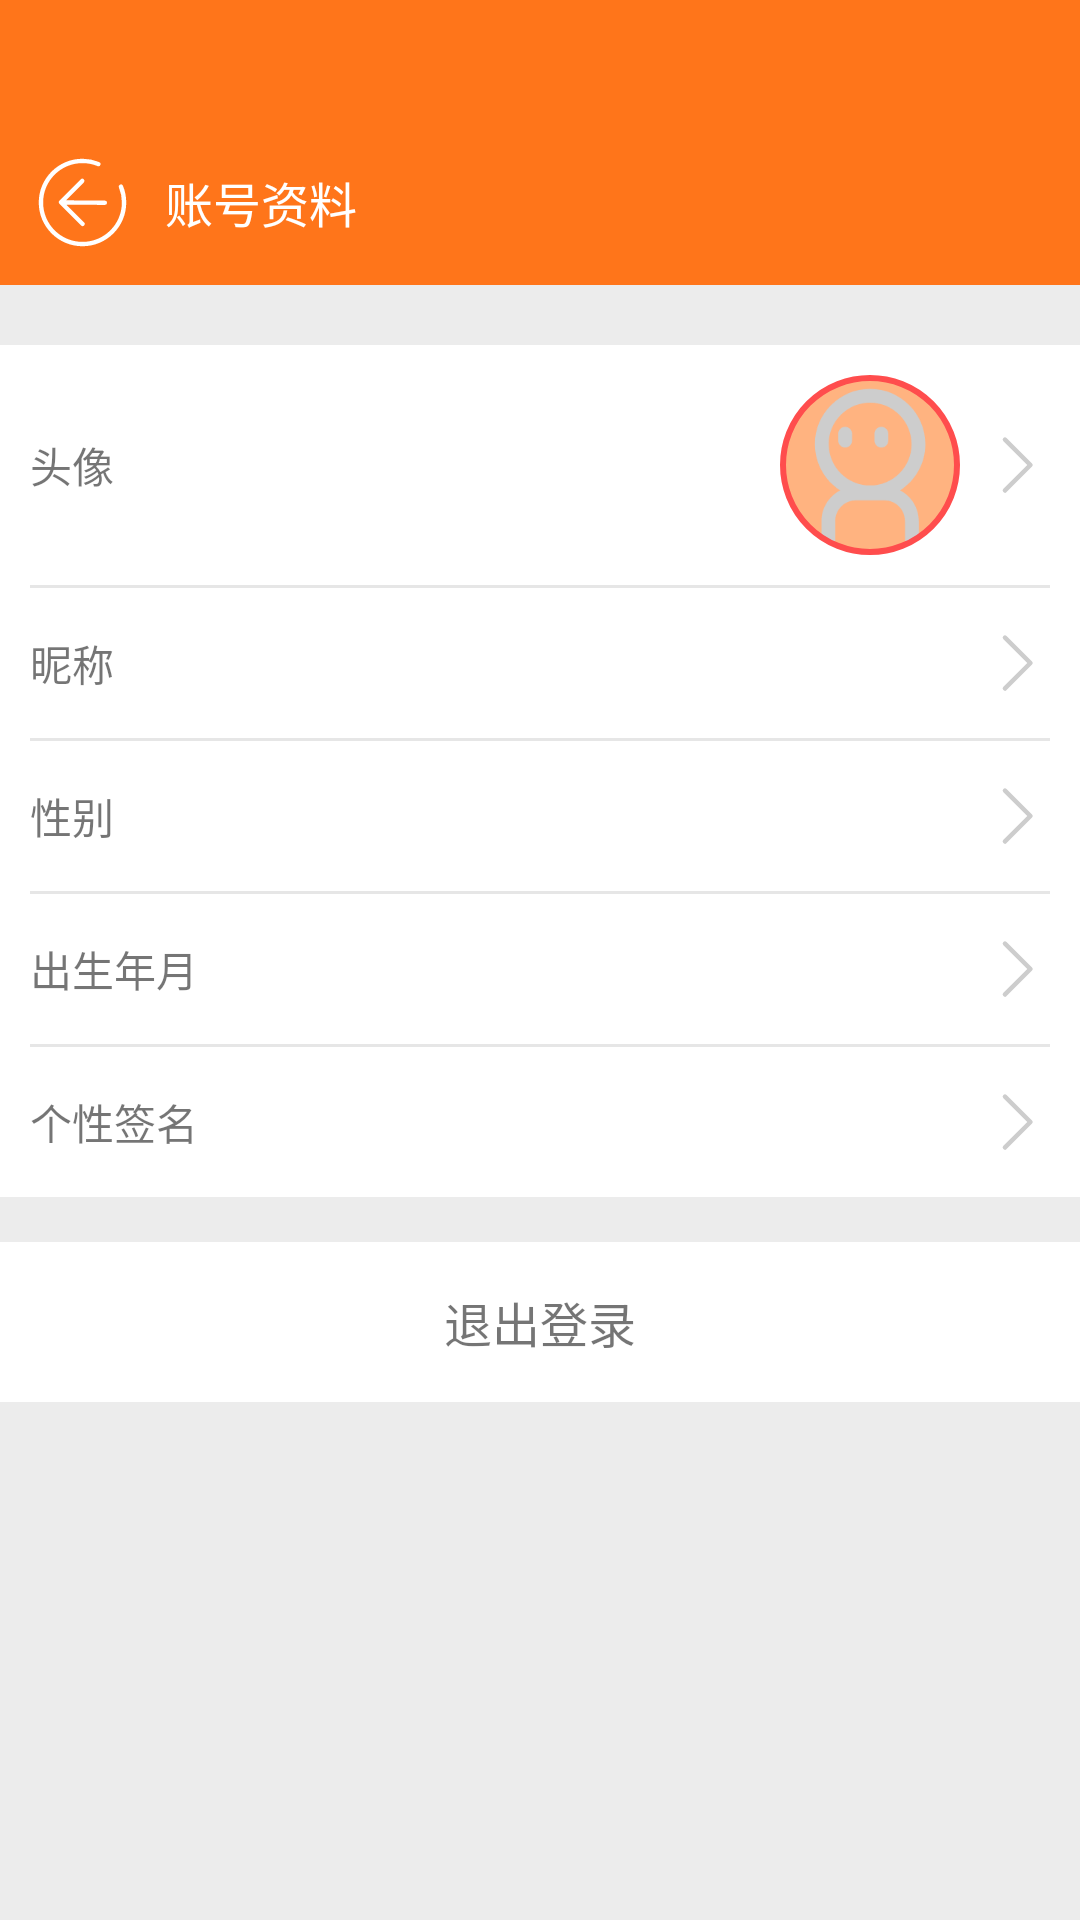

Locate icon controls on the screen. Image size 1080w x 1920h, boxes as [x1=x1, y1=y1, x2=x2, y2=y2].
lastpage: [x1=38, y1=158, x2=127, y2=247]
mine: [x1=780, y1=375, x2=960, y2=555]
